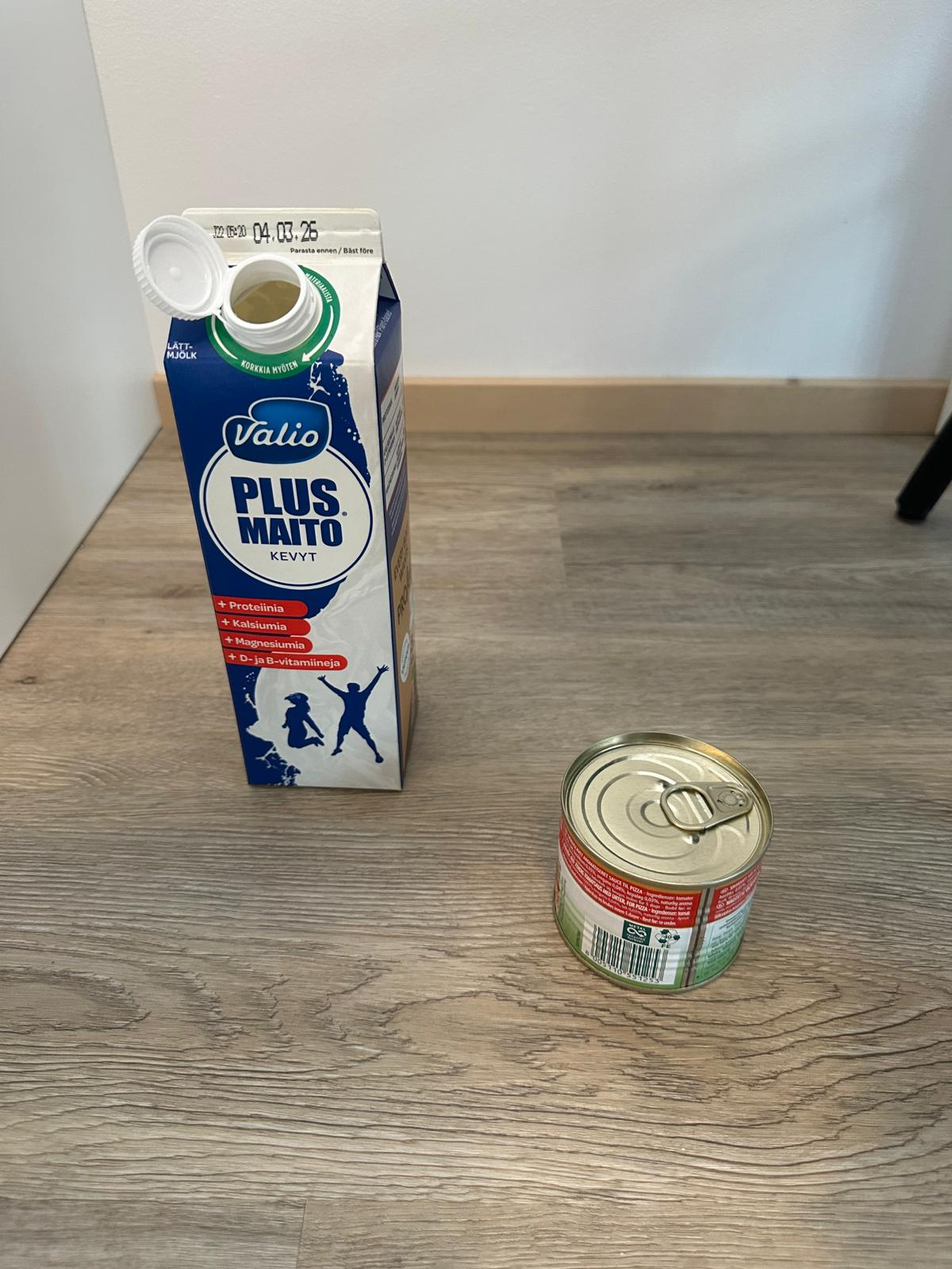Dryckeskartong: (131, 207, 419, 793)
Konservburk: (550, 731, 774, 996)
